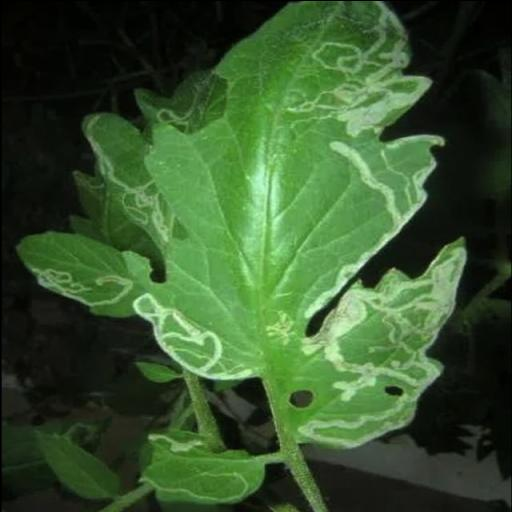Leaf Miner: (132, 0, 470, 448), (13, 231, 137, 320)
